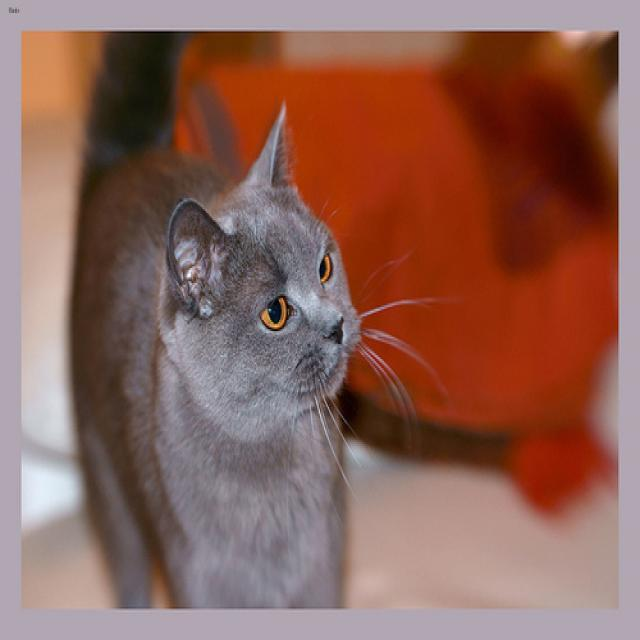British_Shorthair: (165, 102, 359, 411)
